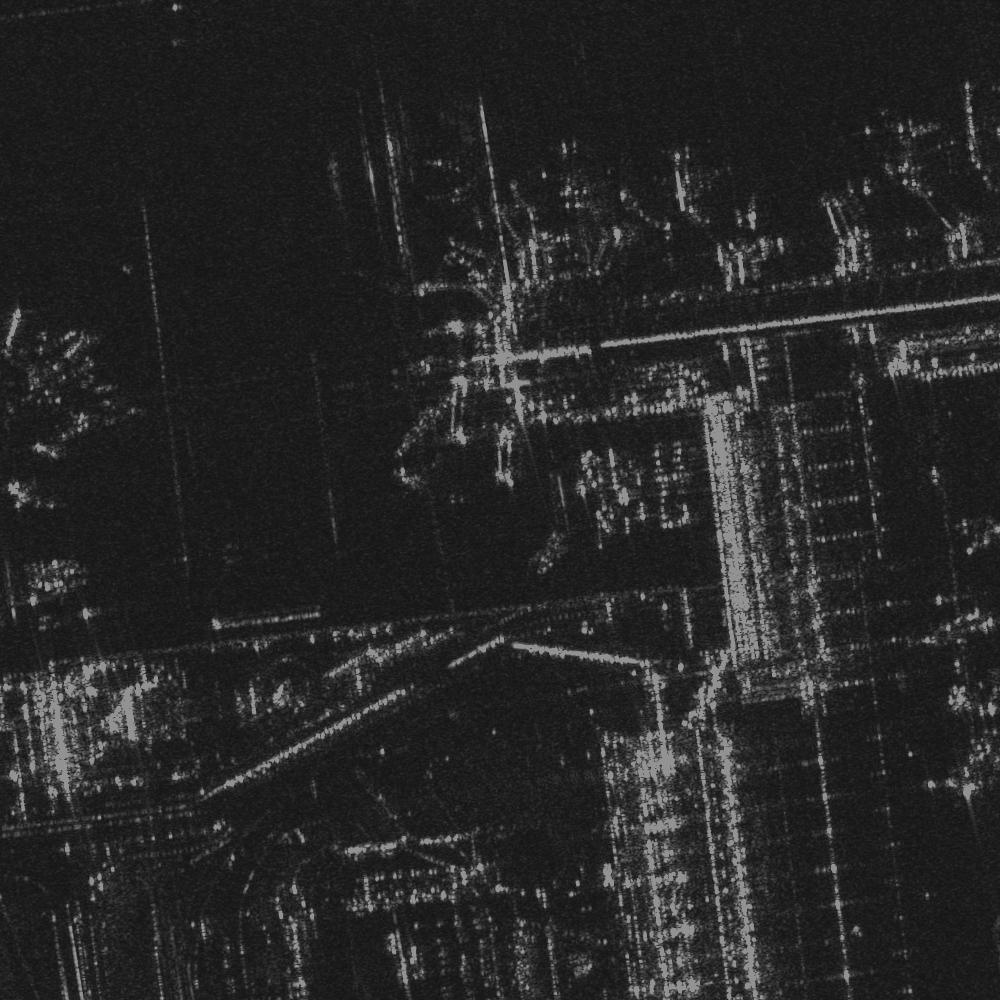A220: (644, 142, 725, 216), (542, 134, 613, 208), (865, 101, 945, 164)
Boeing737: (423, 154, 489, 208)
